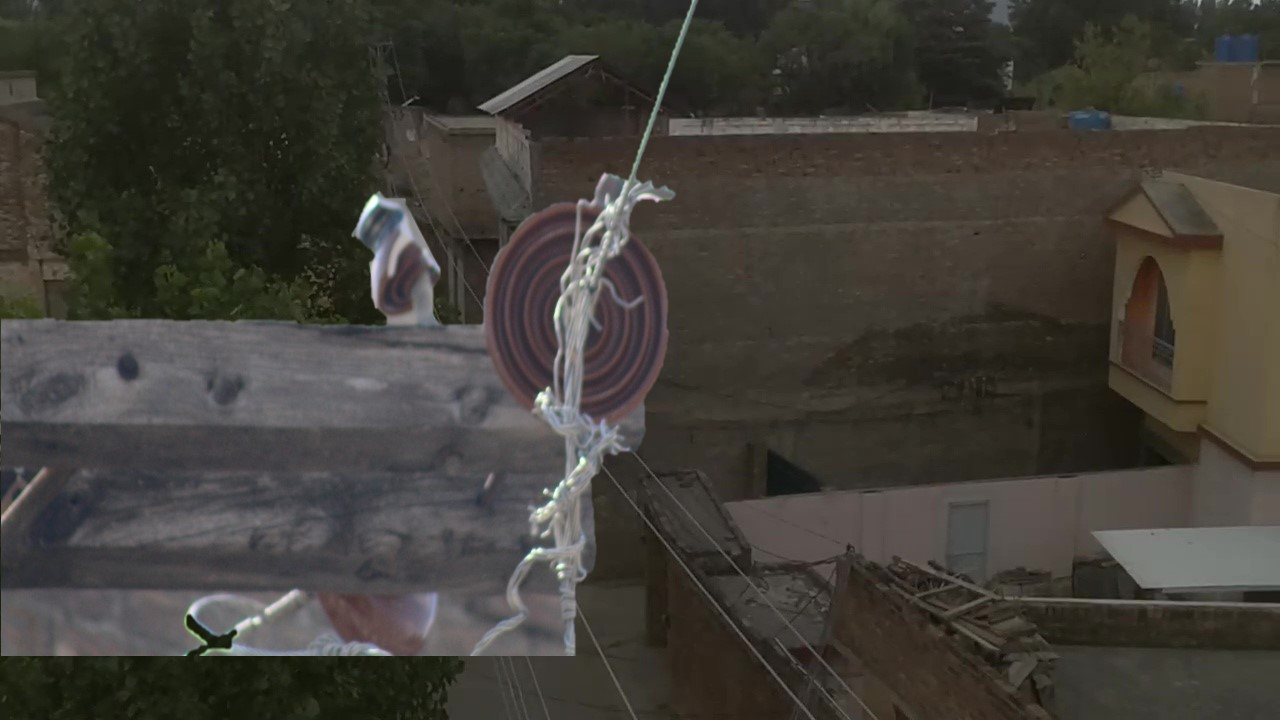defect_pin: (346, 181, 449, 326)
insulator_disc: (481, 187, 674, 436)
